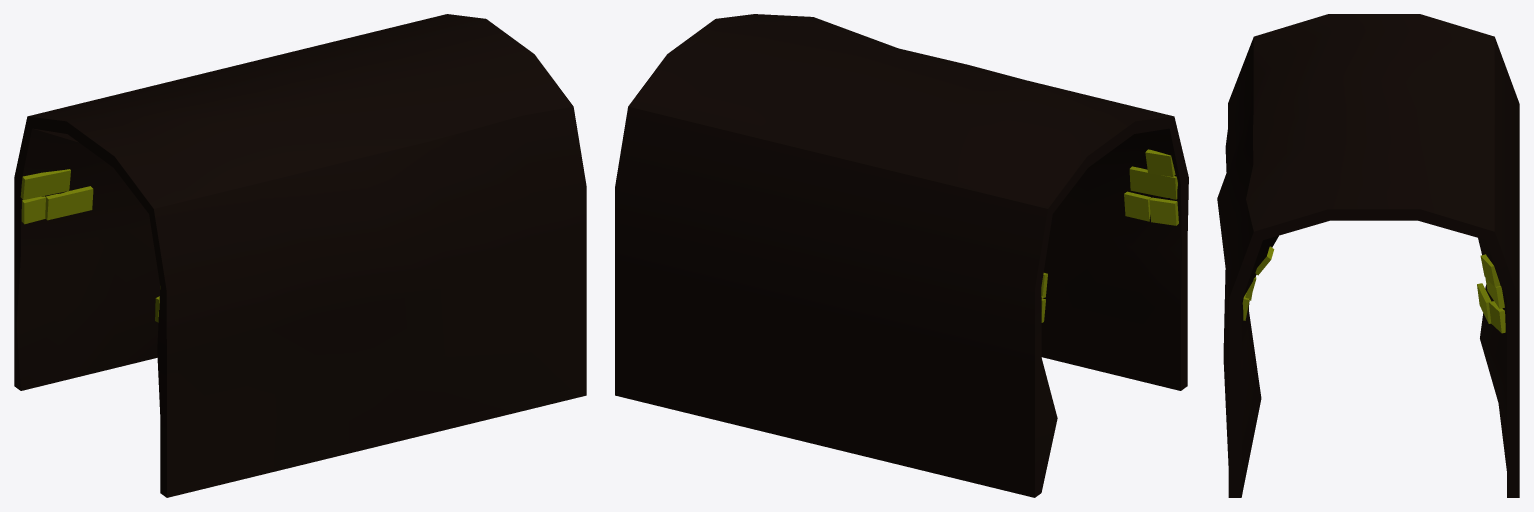
The model's file is Paroi_2.fbx.
The picture shows the model from 3 angles, left to right: view 1: azimuth 30°, elevation 25°; view 2: azimuth 150°, elevation 25°; view 3: azimuth 270°, elevation 25°; orthographic projection. The views are drawn at different scales.
Parts seen in each view (by area): view 1: paroi2; view 2: paroi2; view 3: paroi2.
Part boxes in pixels (bbox=[...]): paroi2: bbox=[14, 14, 586, 497]; paroi2: bbox=[615, 14, 1188, 497]; paroi2: bbox=[1217, 14, 1519, 497].
Bounding box in the file's own units: 410 × 286 × 262.
